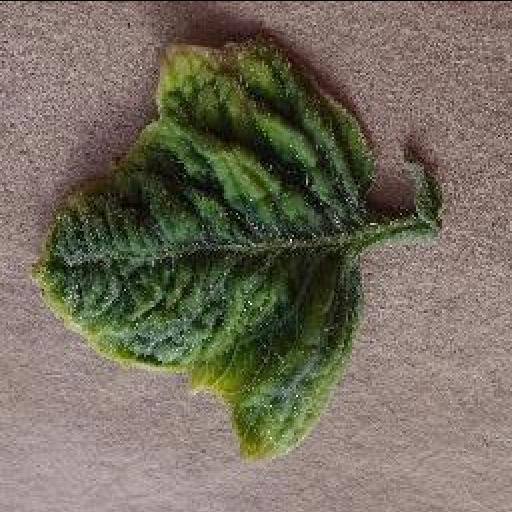disease_tomato: (28, 38, 376, 464)
